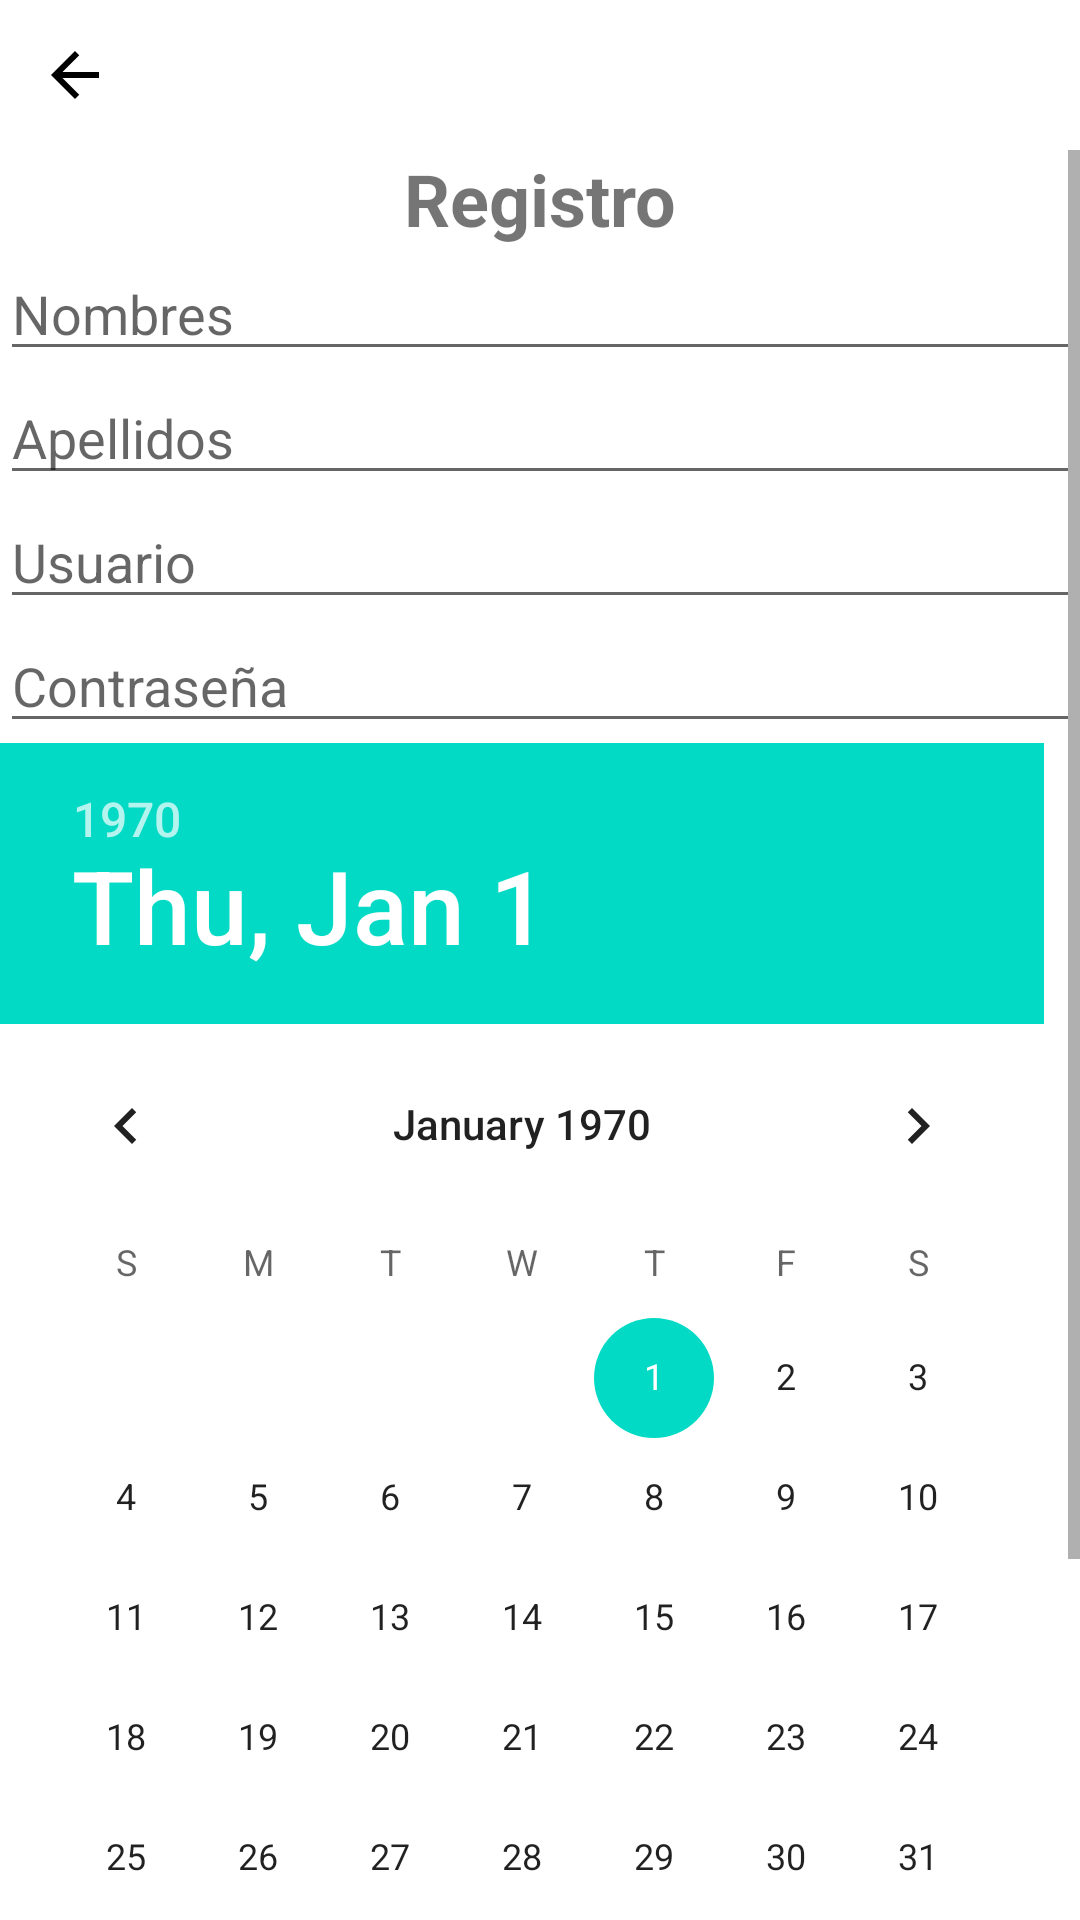

Icons on this 1080×1920 Android screen, each with the point to tap as (x=x, y=y):
Atrás: (x=75, y=75)
